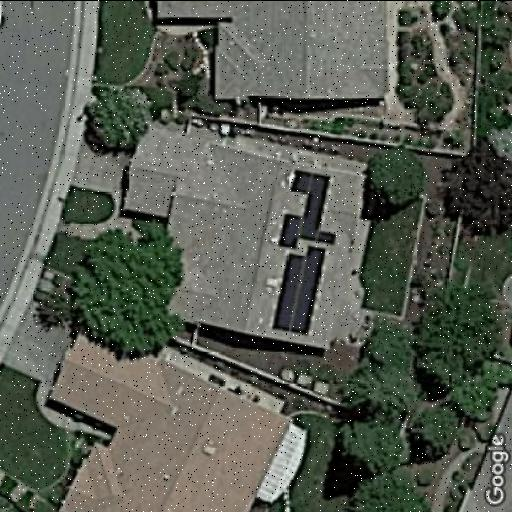solar-panel: (269, 244, 328, 336), (275, 167, 338, 251)
